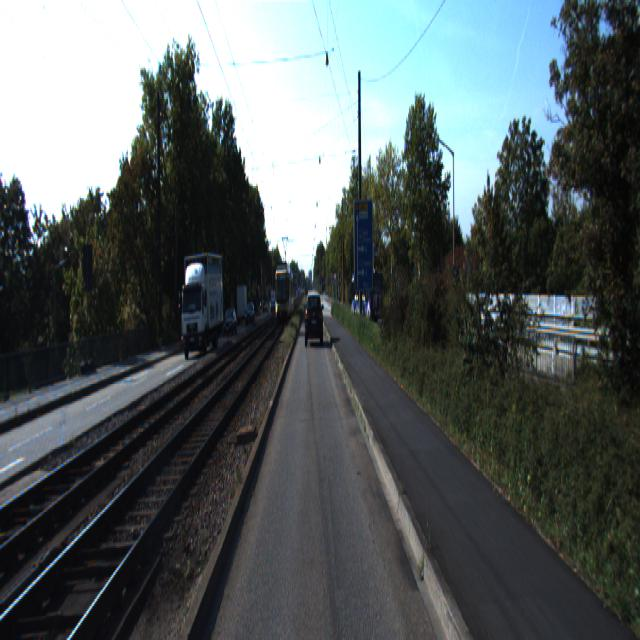Car: (178, 247, 224, 359), (351, 270, 384, 322), (306, 292, 322, 346)
